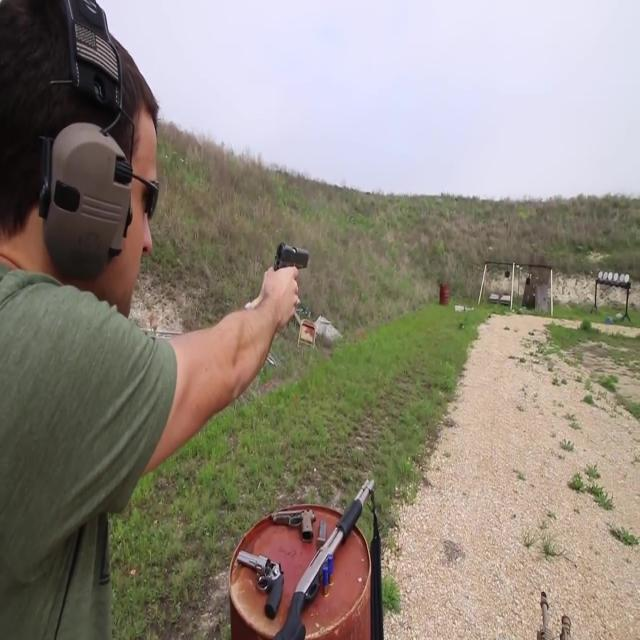Weapon: (221, 448, 409, 640), (256, 192, 326, 326)
